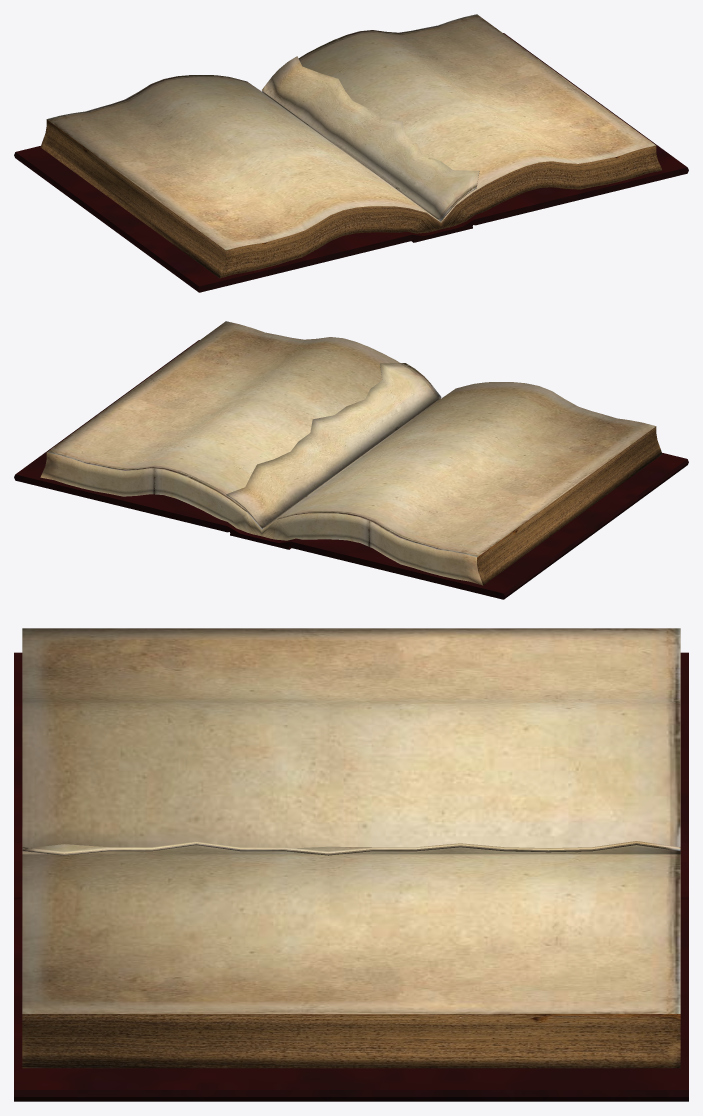
File: Libro2.fbx
3 renders of one model, top to bottom at view 1: azimuth 30°, elevation 25°; view 2: azimuth 150°, elevation 25°; view 3: azimuth 270°, elevation 25°, orthographic. The views are drawn at different scales.
Visible parts, largest first — view 1: Libro 2.001, Libro 2, Plane; view 2: Libro 2.001, Libro 2, Plane; view 3: Libro 2.001, Libro 2, Plane.
Part boxes in pixels (box(x1,y1,x2,y2)): Libro 2.001: box(40, 14, 662, 278); Libro 2: box(14, 33, 688, 292); Plane: box(261, 56, 479, 221); Libro 2.001: box(40, 321, 662, 585); Libro 2: box(14, 340, 688, 599); Plane: box(226, 363, 441, 528); Libro 2.001: box(22, 628, 680, 1068); Libro 2: box(14, 652, 688, 1101); Plane: box(22, 841, 680, 855).
Size of the model in its own units: 439 by 40.73 by 285.
